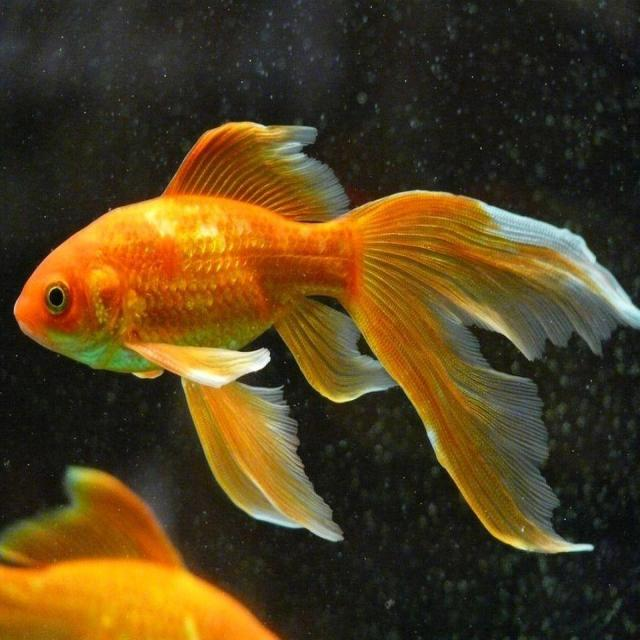GoldFish: (5, 108, 638, 570)
